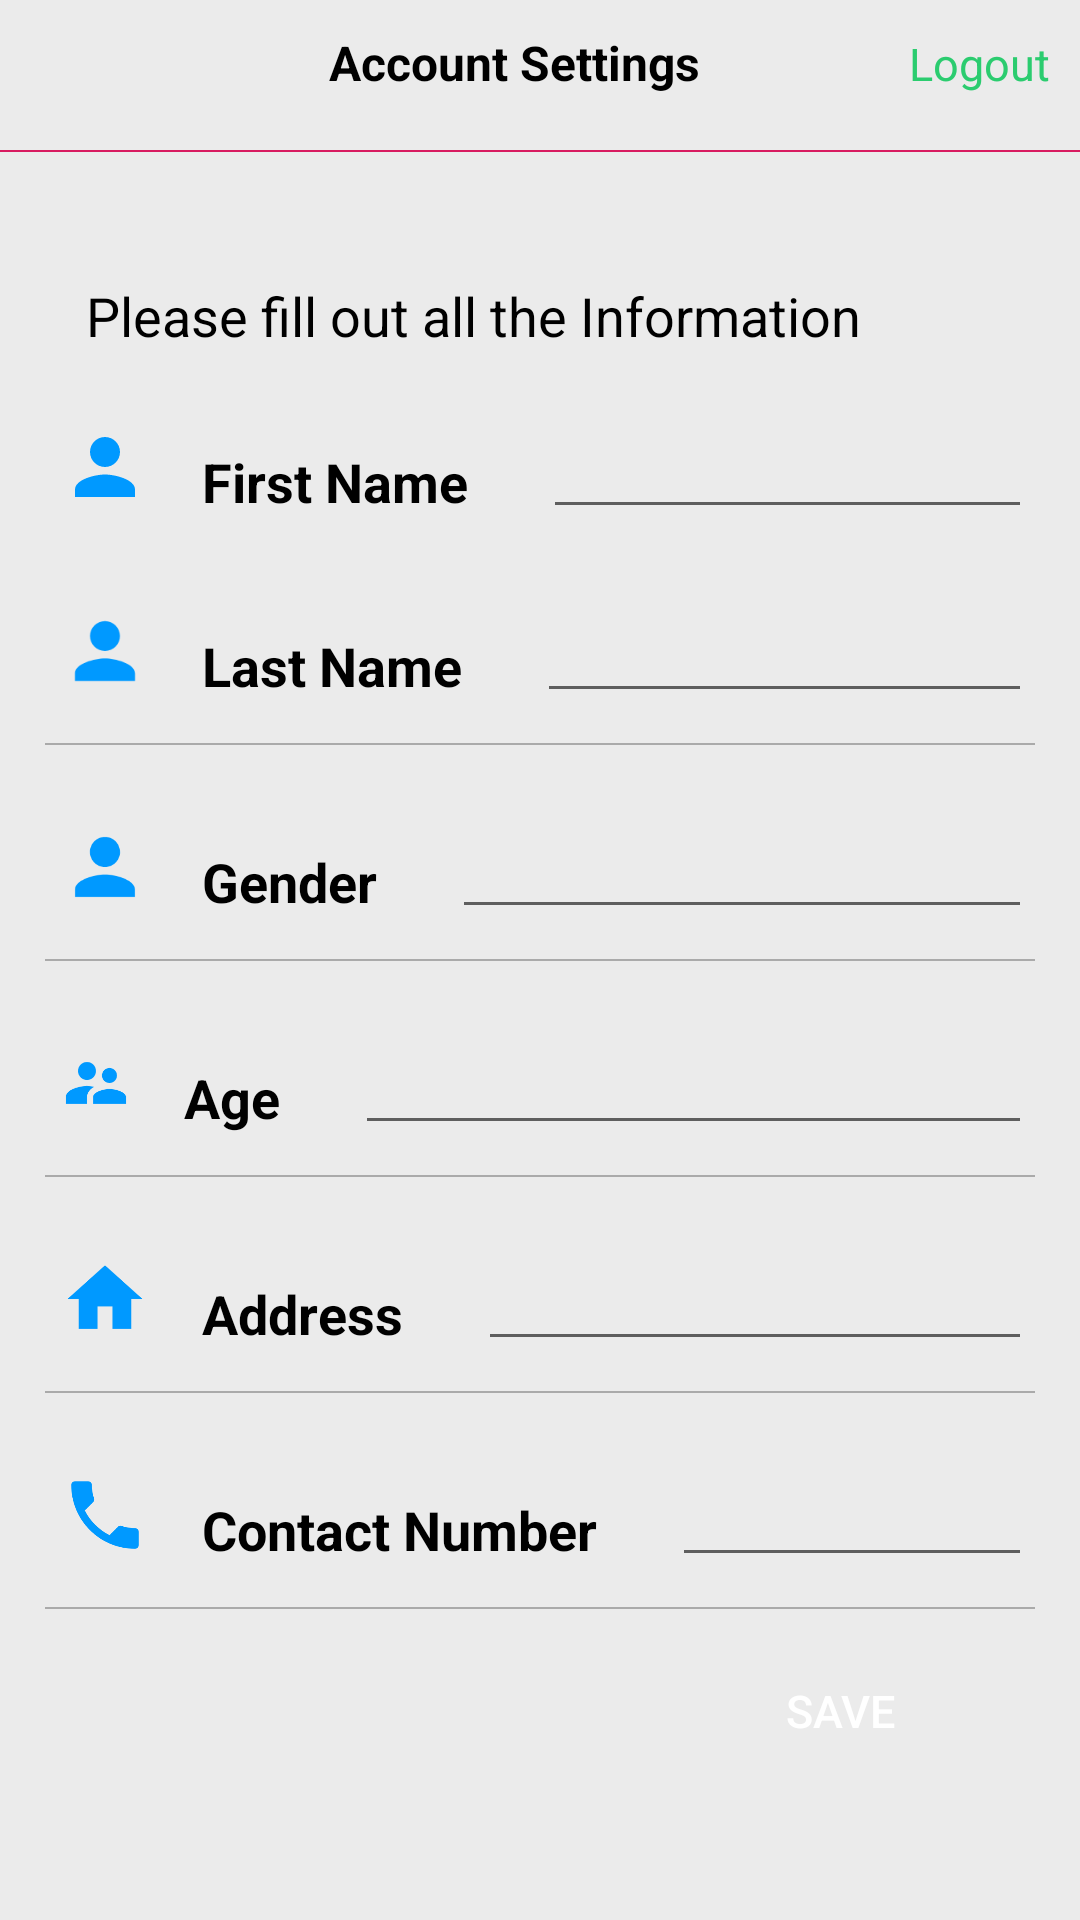

Point at icon controls on the screen. Image size 1080 × 1920, points as (x=x, y=y).
peson: (x=105, y=467), (x=105, y=651), (x=105, y=867)
